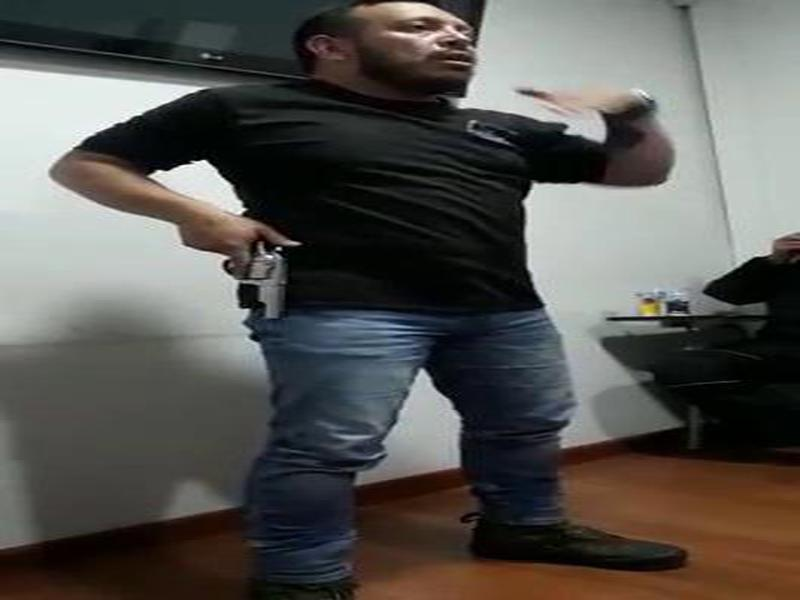Revolver: (205, 230, 306, 335)
